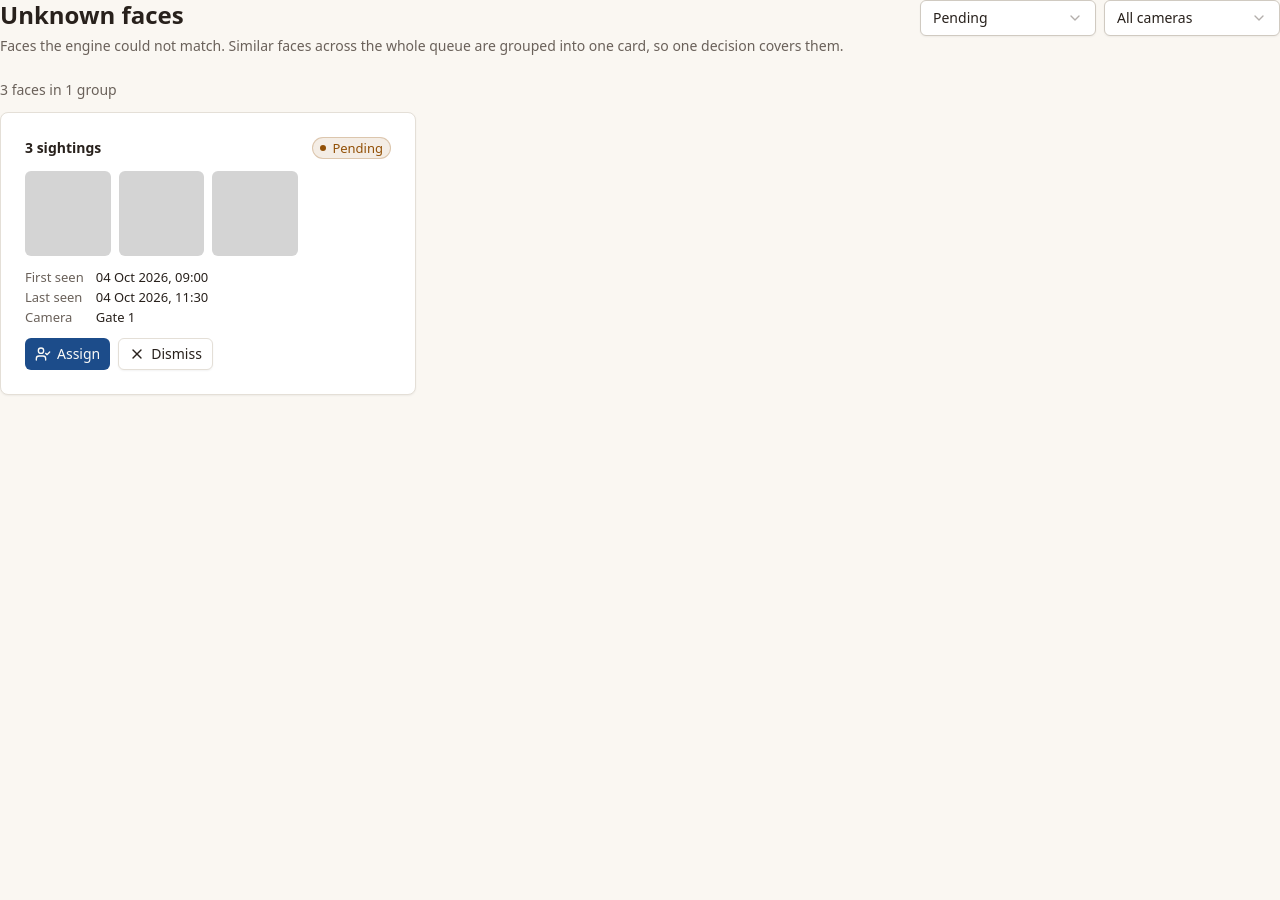
Test case: Unknown faces screen (§13 screen 9, FR-27, Q58) › dismisses every face of a card after confirmation and reports skipped faces
This screenshot has width=1280, height=900.
Click the button "Dismiss" at x=166, y=354, box [118,338,213,370]
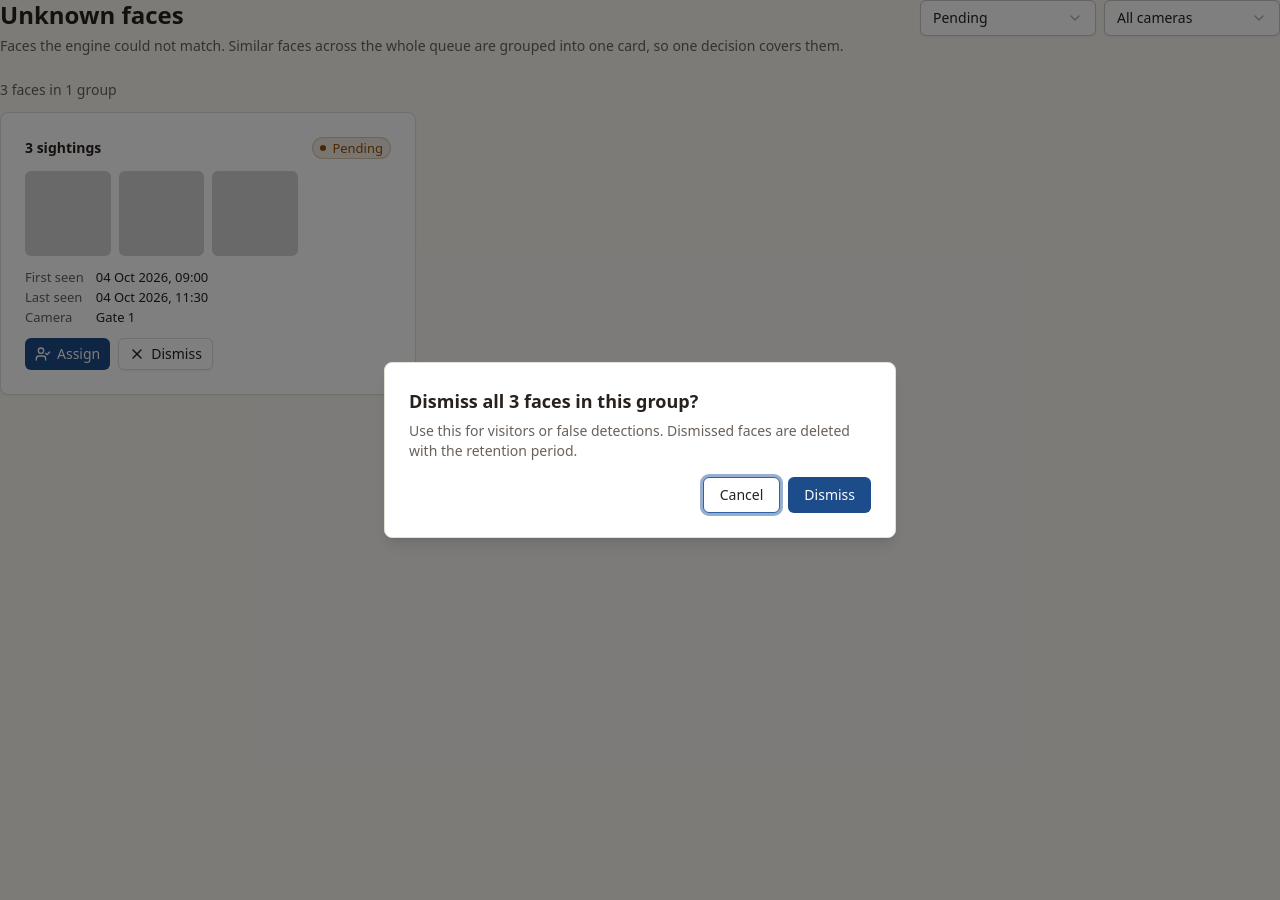
Click the button "Dismiss" at x=830, y=495, box [788,477,871,513]
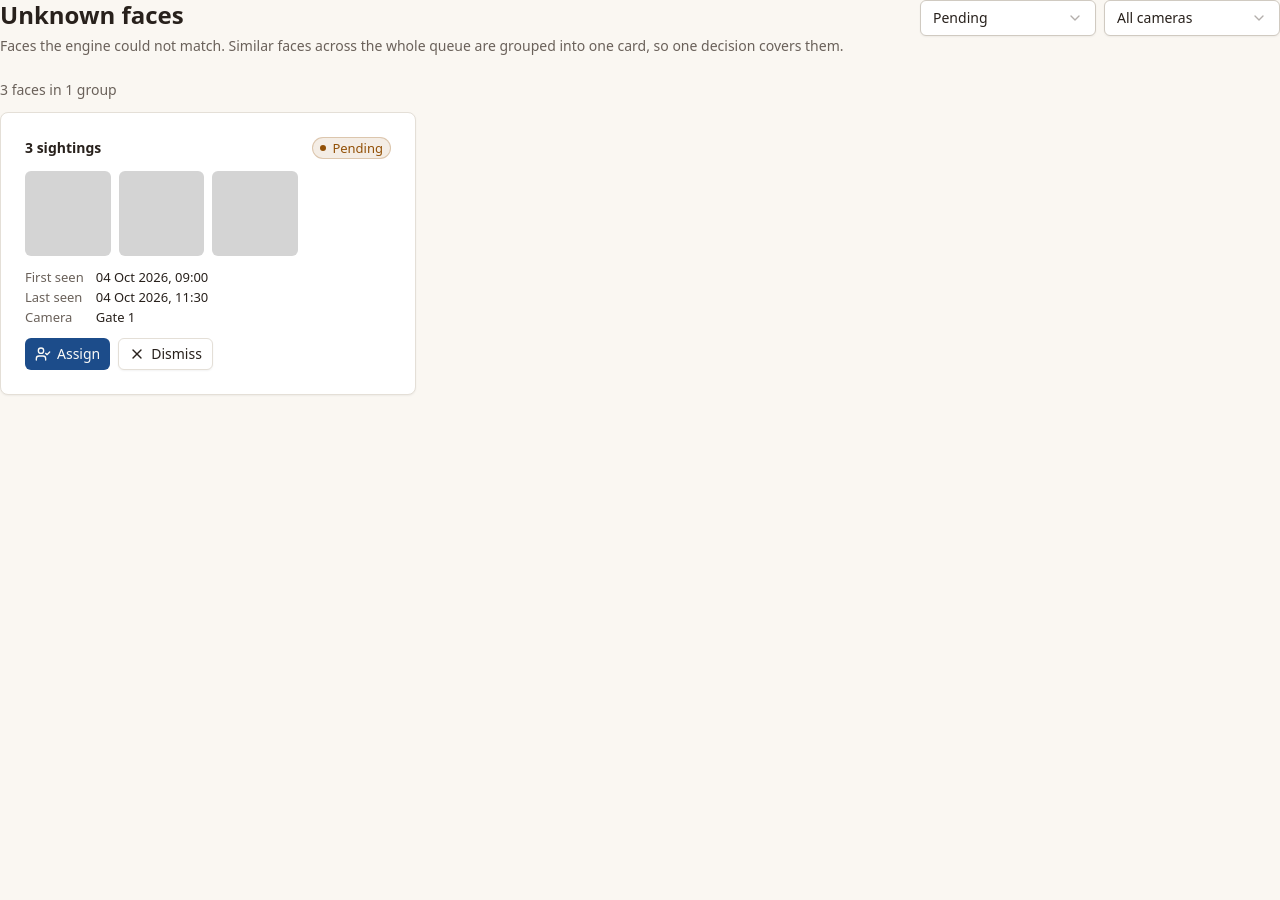
Check: the dialog is gone
